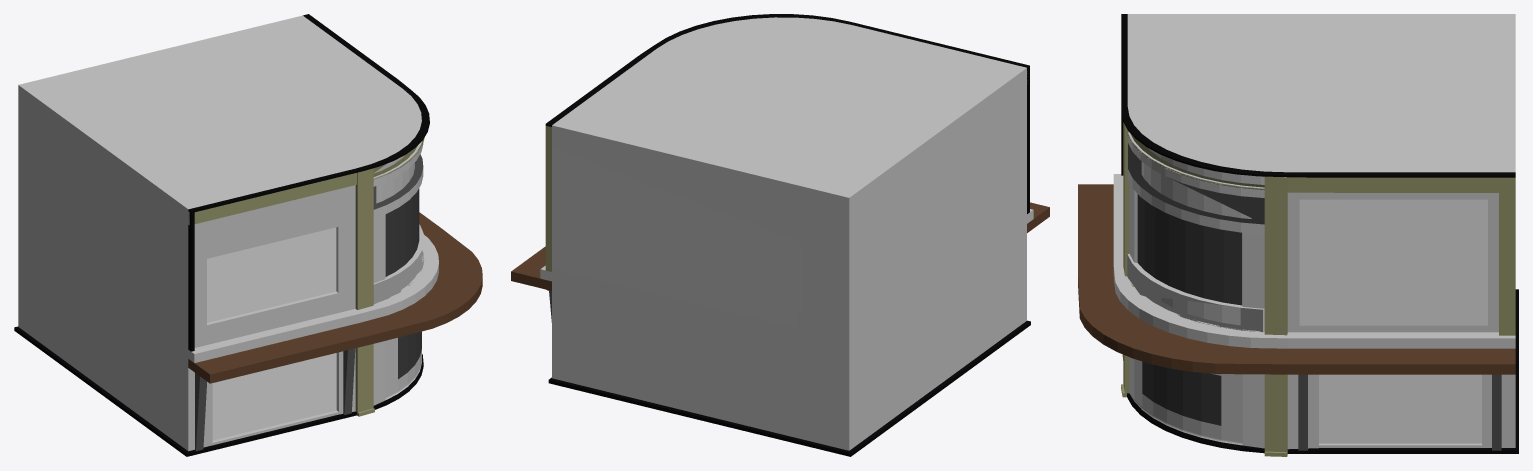
Rendered from Shoppingventer4.fbx.
The picture shows the model from 3 angles, left to right: view 1: azimuth 30°, elevation 25°; view 2: azimuth 150°, elevation 25°; view 3: azimuth 270°, elevation 25°; orthographic projection. The views are drawn at different scales.
Parts seen in each view (by area): view 1: Cube, Cube.001; view 2: Cube; view 3: Cube, Plane, Cube.001.
Boxes of the visible parts, <box> form: Cube: <box>14,14,482,456</box>; Cube.001: <box>207,227,336,440</box>; Cube: <box>511,14,1049,456</box>; Cube: <box>1078,14,1518,456</box>; Plane: <box>1299,199,1487,325</box>; Cube.001: <box>1319,374,1481,443</box>.
Bounding box in the file's own units: 4518 × 3257 × 4635.
